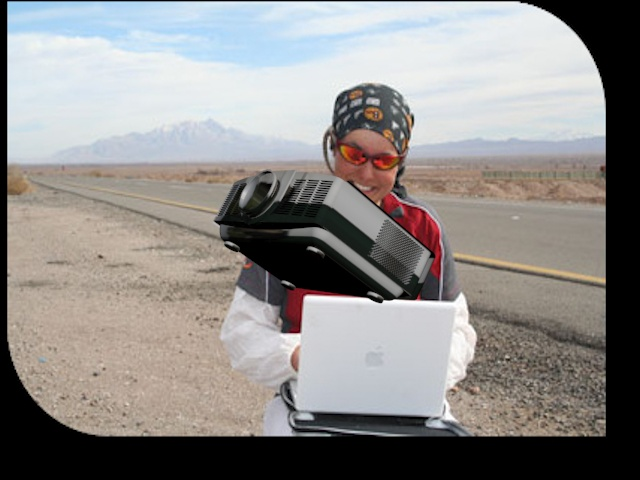projector: (209, 161, 440, 304)
